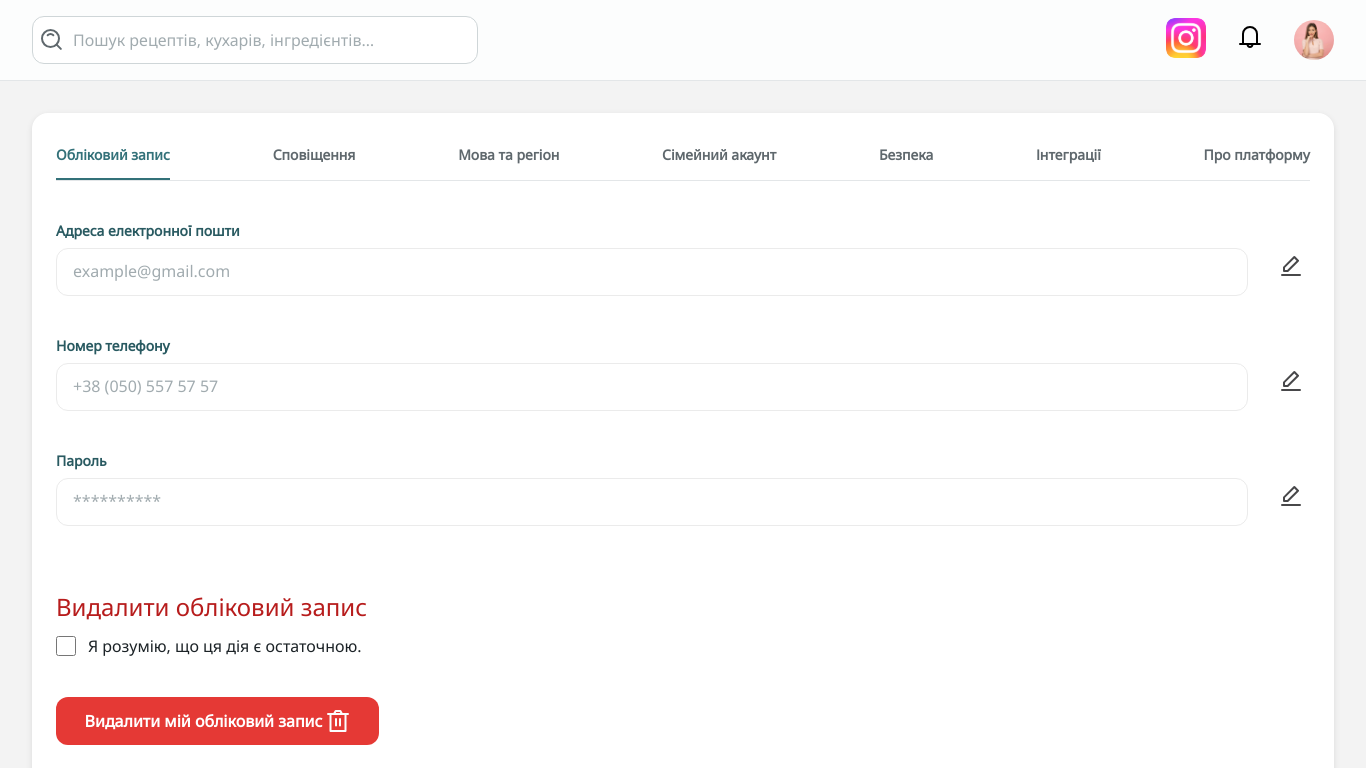
Test: SettingsPage full tests › renders integrations section
What coordinates should you click on to do the following:
click the list item "Інтеграції"
I would click on:
 (1068, 154)
Its box is [1036, 145, 1101, 164].
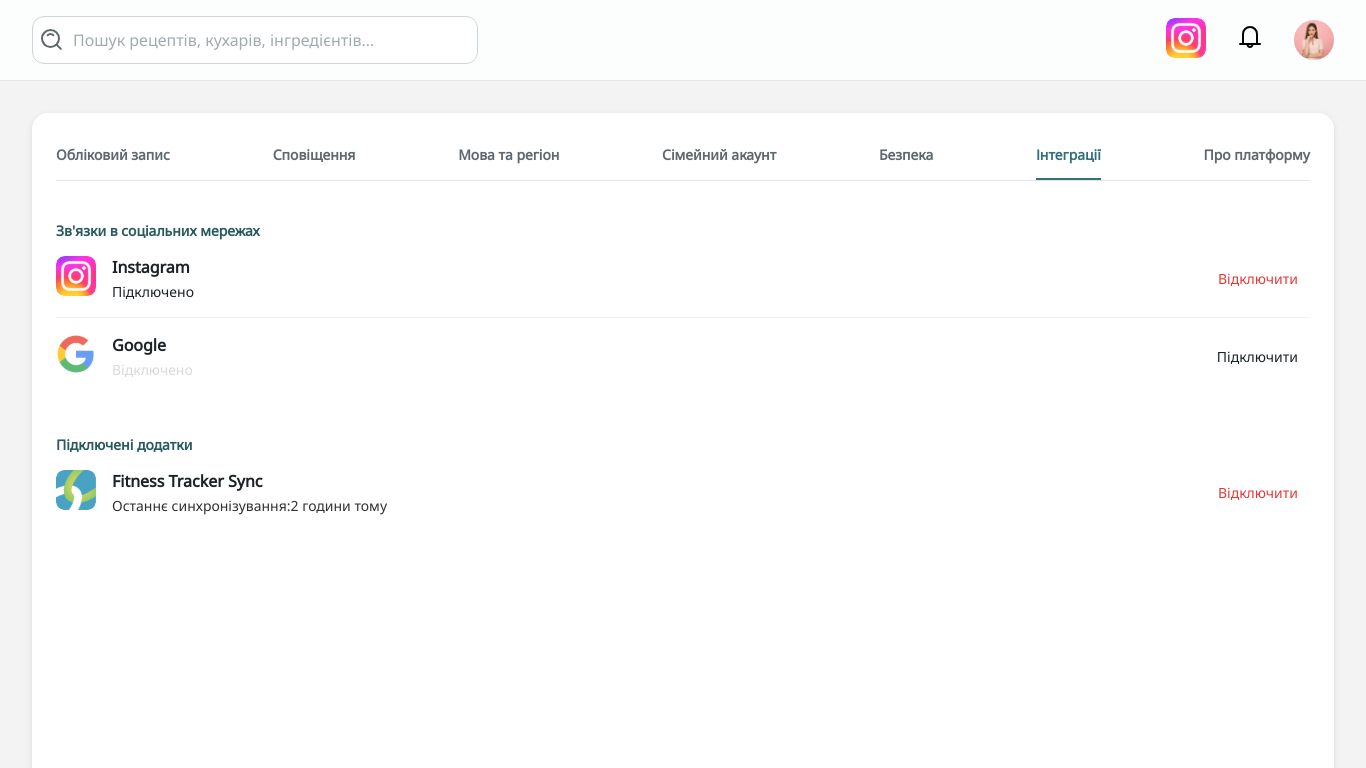
Check: the heading "Зв'язки в соціальних мережах" is shown, box [56, 221, 260, 240]
Check: the button "Підключити" is shown, box [1205, 339, 1310, 374]
